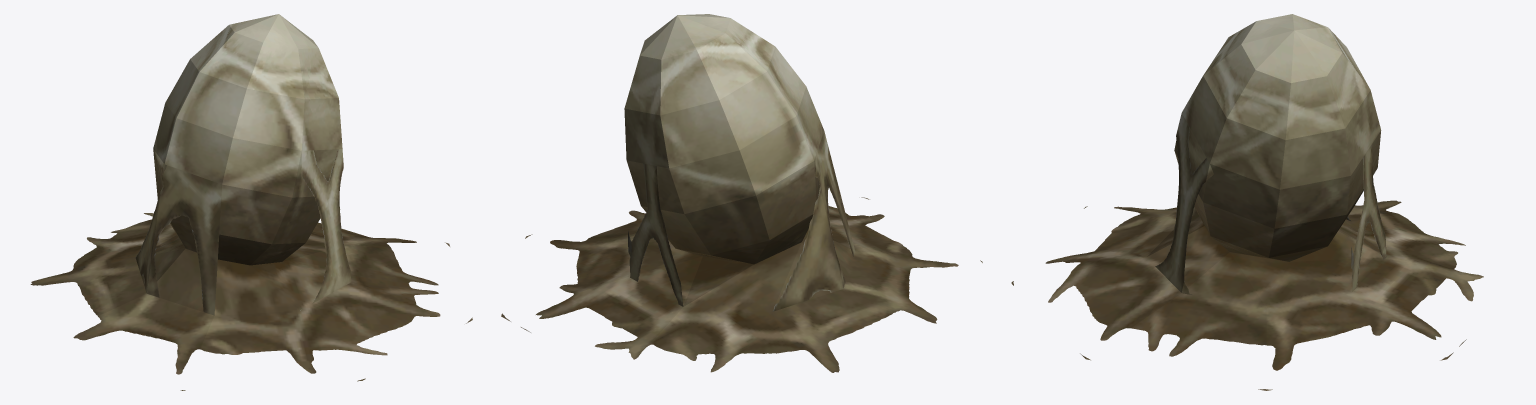
File: spider_egg_03.fbx
3 views of the same model, side by side, from view 1: azimuth 30°, elevation 25°; view 2: azimuth 150°, elevation 25°; view 3: azimuth 270°, elevation 25° (orthographic). The views are drawn at different scales.
Visible parts, largest first — view 1: obj0.337; view 2: obj0.337; view 3: obj0.337.
Boxes of the visible parts, x1,y1,x2,y2 form: obj0.337: (30,14,472,390); obj0.337: (501,14,982,372); obj0.337: (1011,14,1483,390).
Size of the model in its own units: 2.23 by 1.34 by 2.23.
